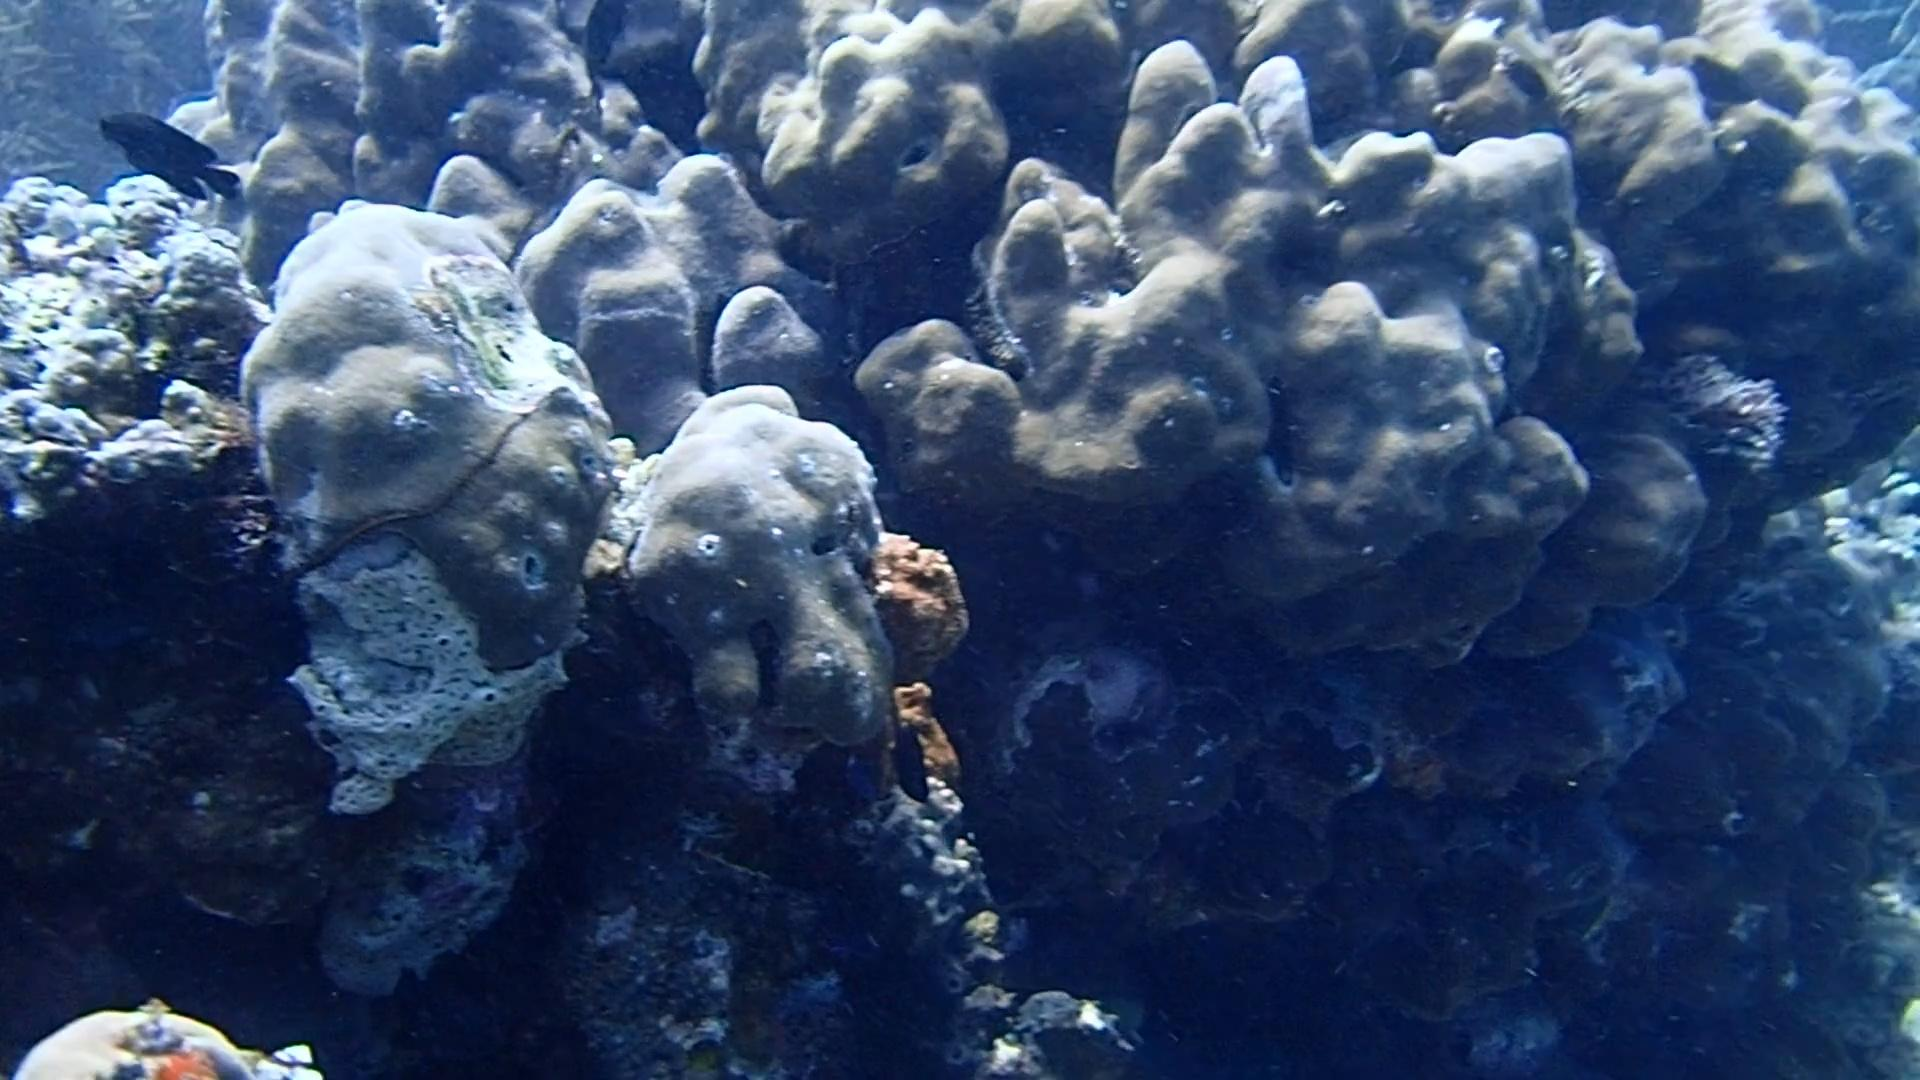Dark Fish: (88, 99, 248, 219), (878, 715, 942, 807), (1680, 46, 1767, 109), (1497, 49, 1552, 109)
